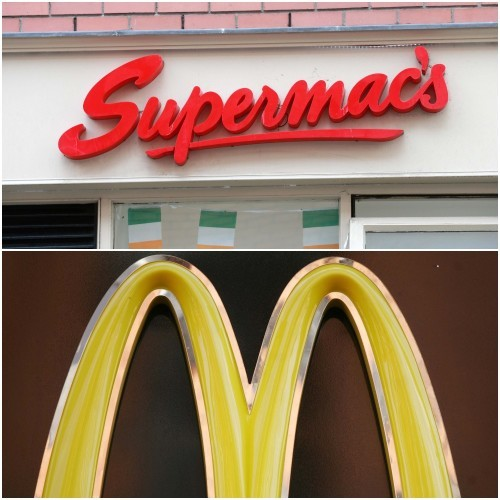mcdonalds: (23, 254, 457, 495)
